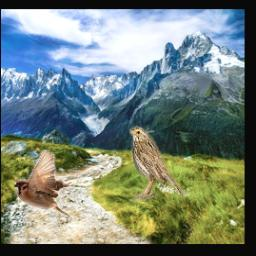Sparrow: (128, 126, 185, 202), (13, 150, 73, 219)
